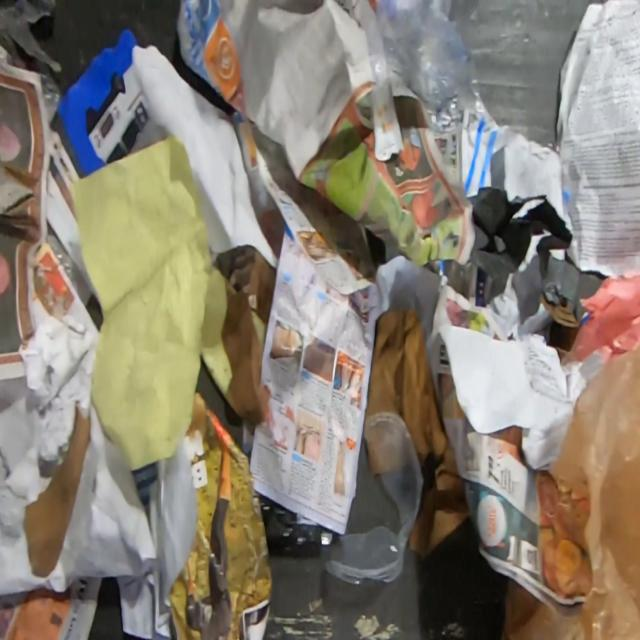rigid_plastic: (322, 410, 424, 587)
soft_plastic: (500, 350, 640, 640), (358, 0, 490, 134), (0, 0, 64, 131)
